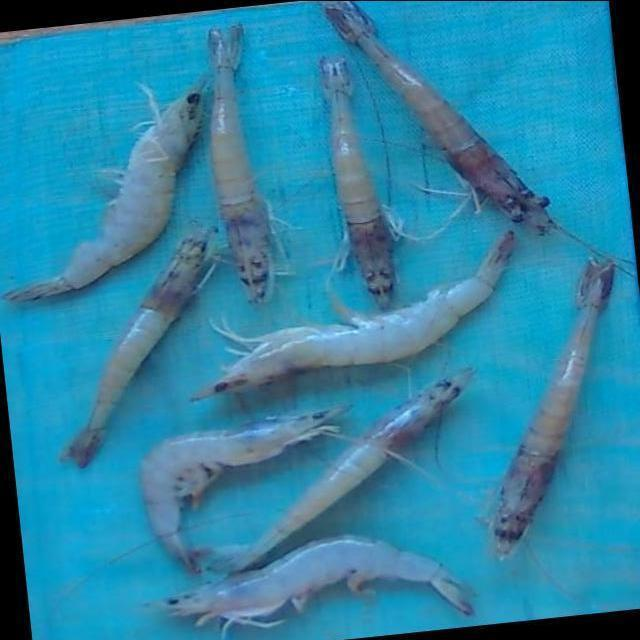shrimp: (207, 369, 473, 574), (192, 231, 514, 400), (322, 0, 554, 232), (2, 78, 203, 300), (494, 259, 615, 557), (60, 226, 207, 468), (140, 406, 347, 573), (165, 535, 474, 627), (320, 56, 395, 307), (207, 23, 273, 302)
